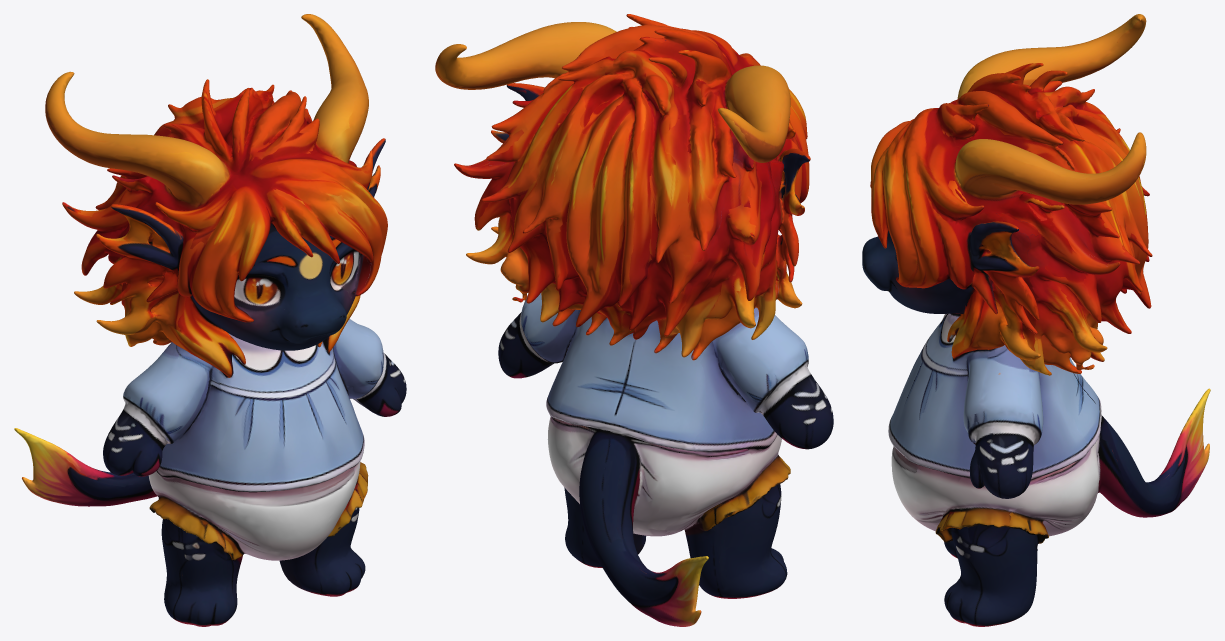
Rendered from khana_dollsmol.glb.
3 renders of one model, left to right at view 1: azimuth 30°, elevation 25°; view 2: azimuth 150°, elevation 25°; view 3: azimuth 270°, elevation 25°, orthographic. The views are drawn at different scales.
Parts seen in each view (by area): view 1: temp_mesh.ply; view 2: temp_mesh.ply; view 3: temp_mesh.ply.
Boxes of the visible parts, x1,y1,x2,y2 form: temp_mesh.ply: (14,14,406,626); temp_mesh.ply: (435,14,833,626); temp_mesh.ply: (862,14,1210,626).
Size of the model in its own units: 3.19 by 5.16 by 3.18.
Materials: 1 (1 with a texture image).
